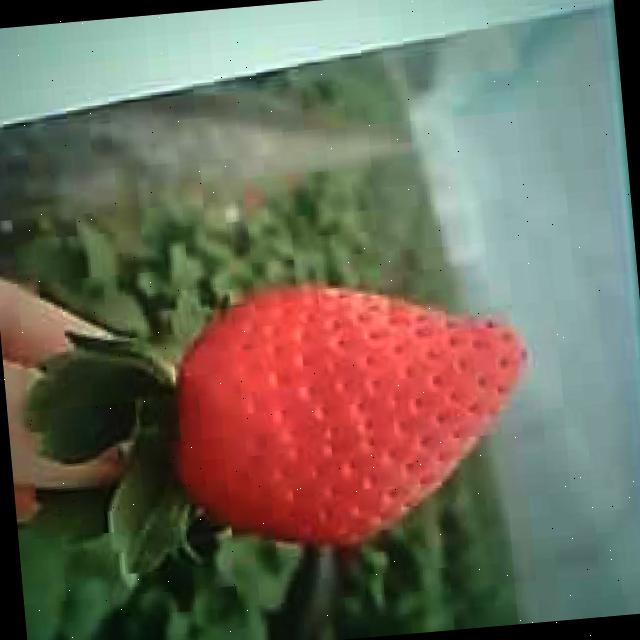strawberry: (165, 267, 539, 557)
